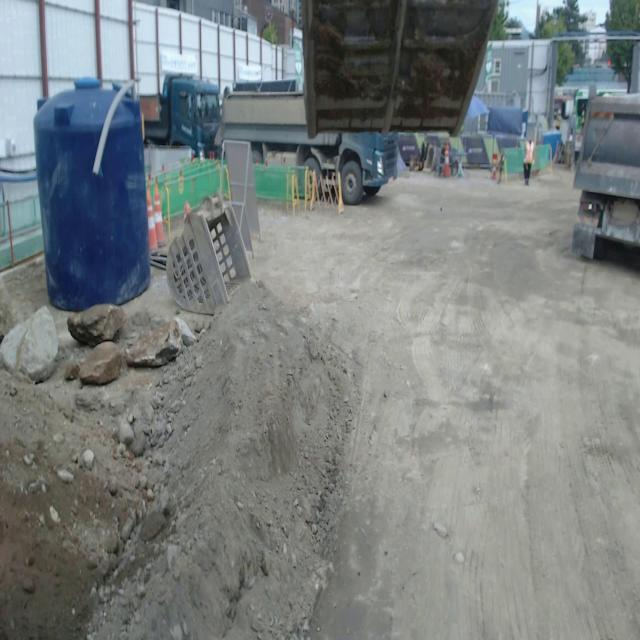stone: (19, 306, 58, 381), (125, 318, 182, 367), (68, 304, 125, 346), (79, 341, 124, 385), (0, 325, 27, 370)
white-sand: (0, 171, 640, 639)
